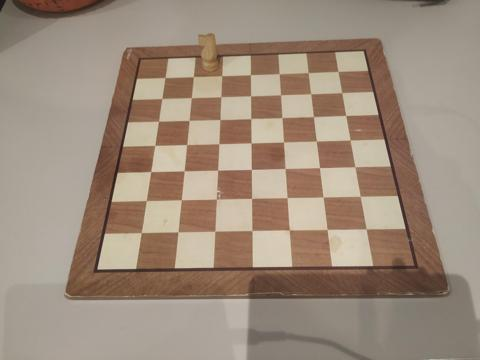xcorner: (244, 69, 255, 80), (281, 194, 292, 204), (318, 193, 329, 203), (154, 94, 165, 104), (245, 90, 255, 101), (186, 72, 197, 82), (133, 229, 143, 239), (170, 228, 180, 238), (207, 228, 217, 238), (245, 227, 255, 237), (283, 227, 293, 237), (322, 226, 332, 236), (362, 226, 372, 236), (138, 197, 148, 207), (173, 196, 183, 206), (209, 195, 219, 205), (245, 195, 255, 205), (356, 193, 366, 203), (143, 167, 153, 177), (176, 167, 186, 177), (210, 166, 220, 176), (245, 165, 255, 175), (280, 164, 290, 174), (315, 163, 325, 173), (351, 163, 361, 173), (147, 141, 157, 151), (179, 140, 189, 150), (212, 139, 222, 149), (245, 138, 255, 148), (278, 137, 288, 147), (312, 136, 322, 146), (346, 135, 356, 145), (151, 116, 161, 126), (182, 115, 192, 125), (213, 114, 223, 124), (245, 113, 255, 123), (277, 112, 287, 122), (309, 111, 319, 121), (341, 110, 351, 120), (184, 93, 194, 103), (214, 92, 224, 102), (275, 89, 285, 99), (306, 88, 316, 98), (337, 87, 347, 97), (158, 73, 168, 83), (215, 71, 225, 81), (274, 68, 284, 78), (304, 67, 314, 77), (334, 66, 344, 76)
